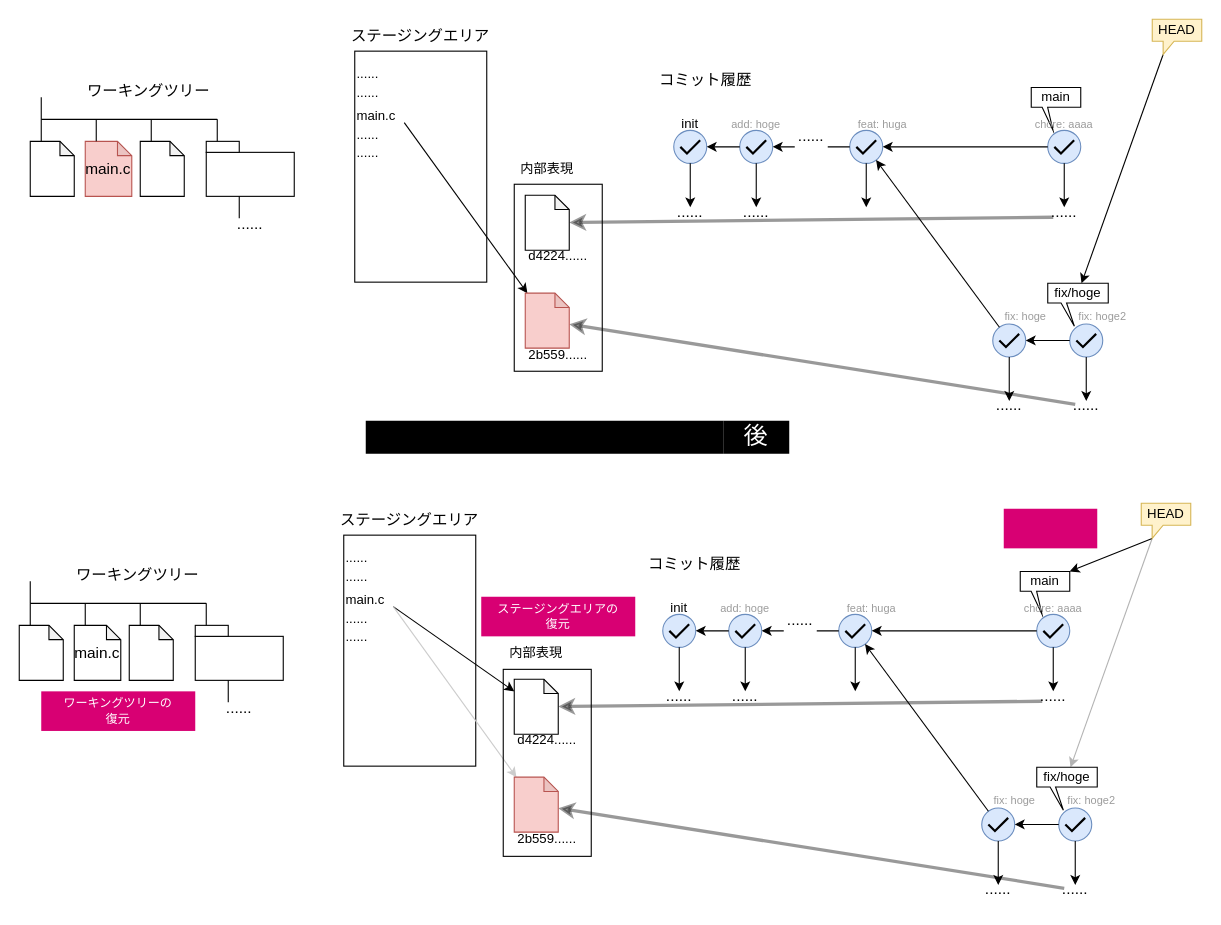
Image size: 1221x925. Some labels were removed from this diagram. The shapes that lost their labels are listed below. From the top down, each one's centre as x and y in pixels, then its label:
point 544,436: git switch main
point 1050,528: HEADの移動
